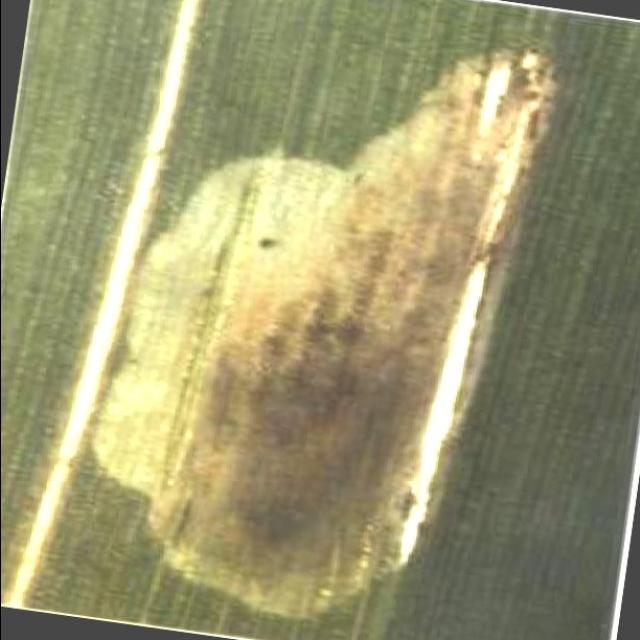ricebug: (32, 51, 552, 617)
